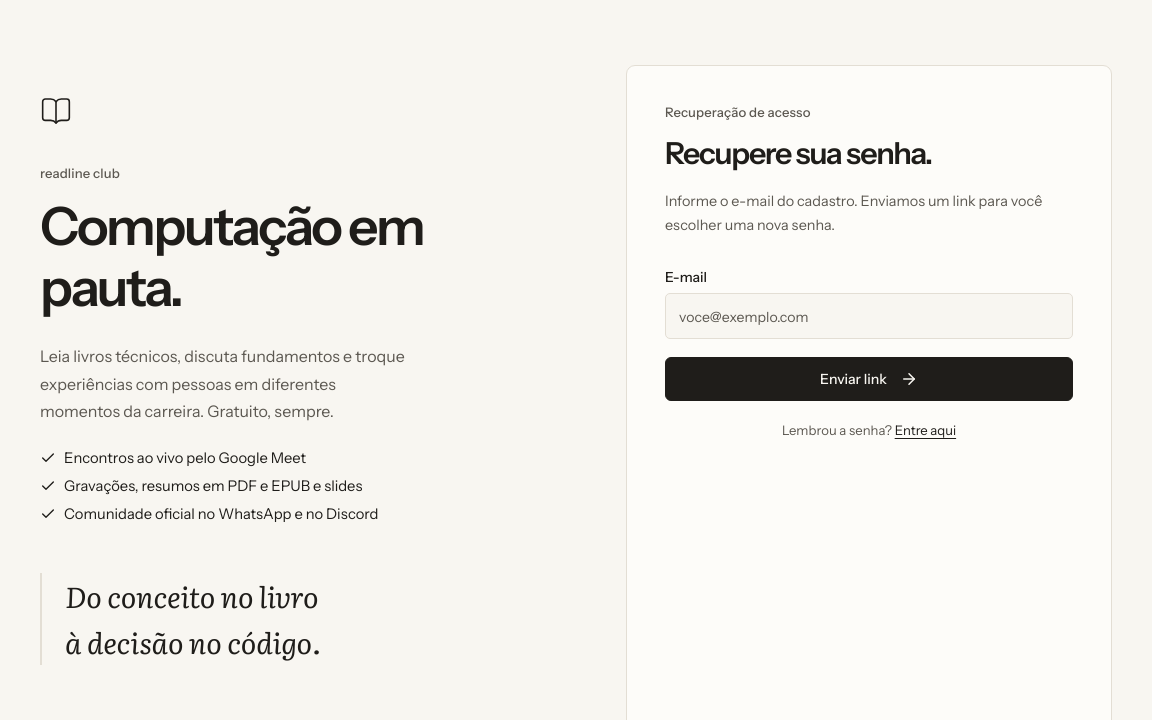
forgot password sends the email with its own challenge and shows the same answer
This screenshot has width=1152, height=720.
Type "pessoa@example.test" into the field labelled "E-mail" at (869, 316), box [665,293,1073,339]
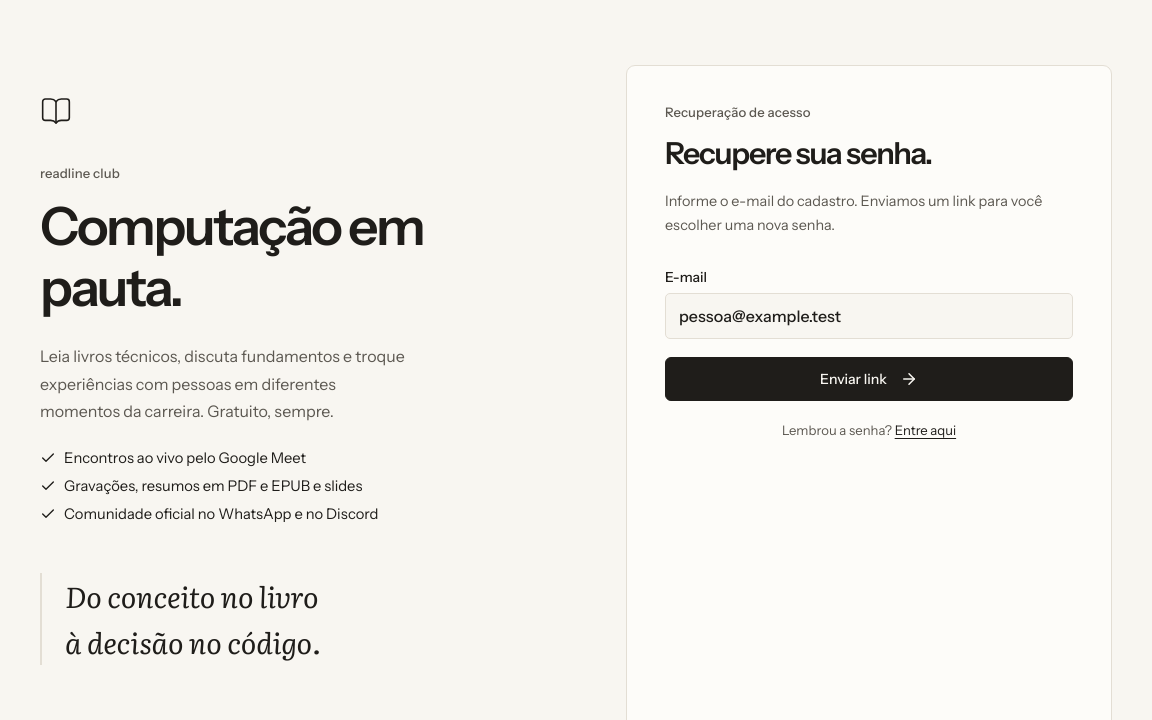
Click the button "Enviar link" at (869, 379), box [665,357,1073,401]
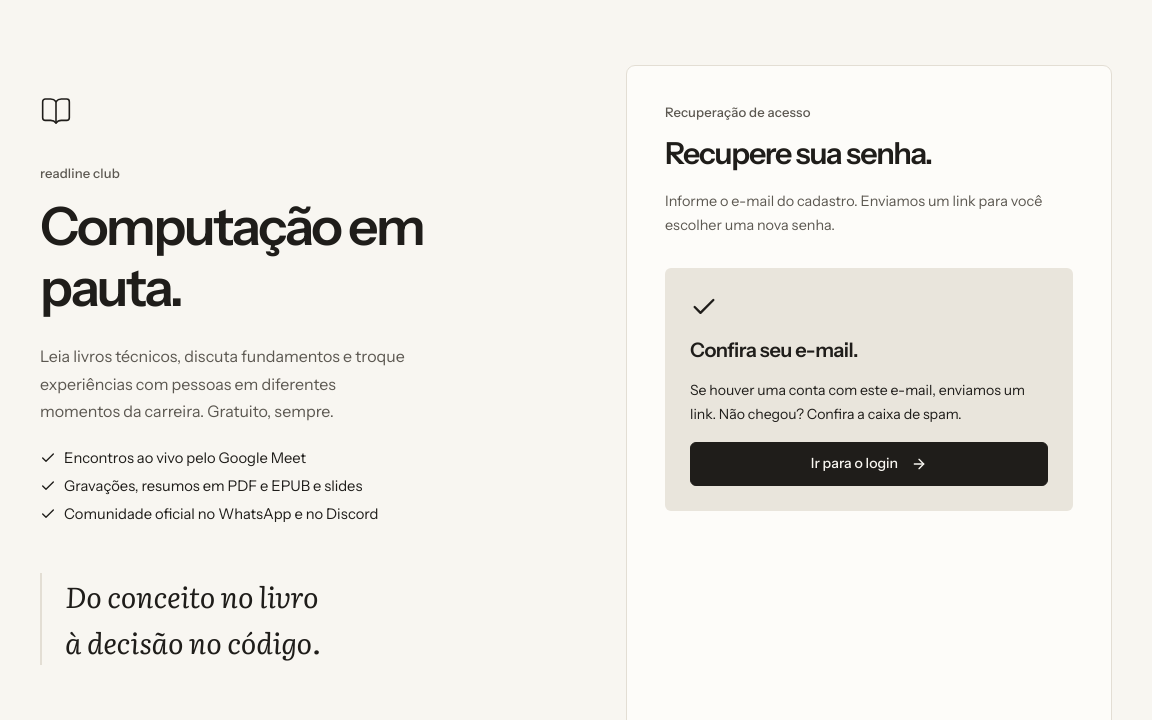
Expected: the message shows "Se houver uma conta com este e-mail", [690,381,1025,423]
